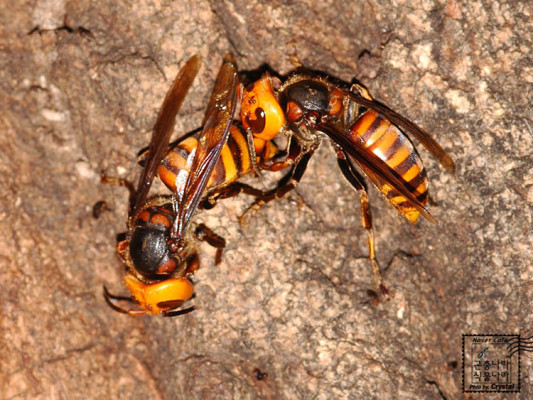asian_giant_hornet: (101, 116, 277, 319), (243, 63, 436, 226)
